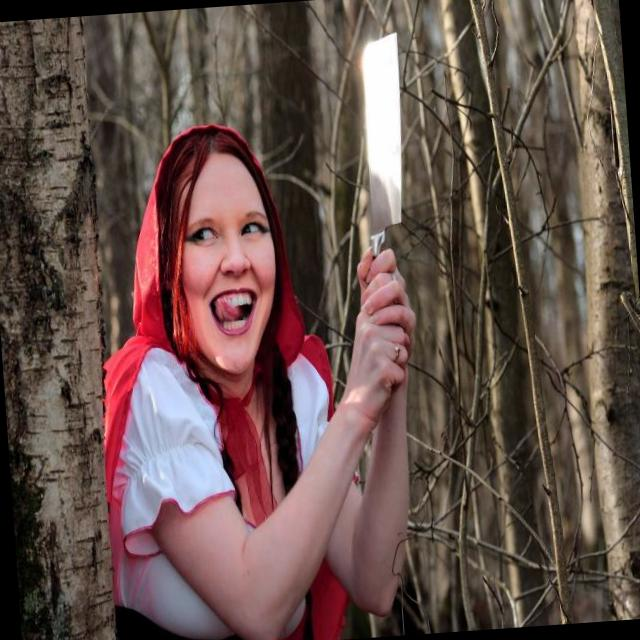Knife: (361, 33, 402, 254)
